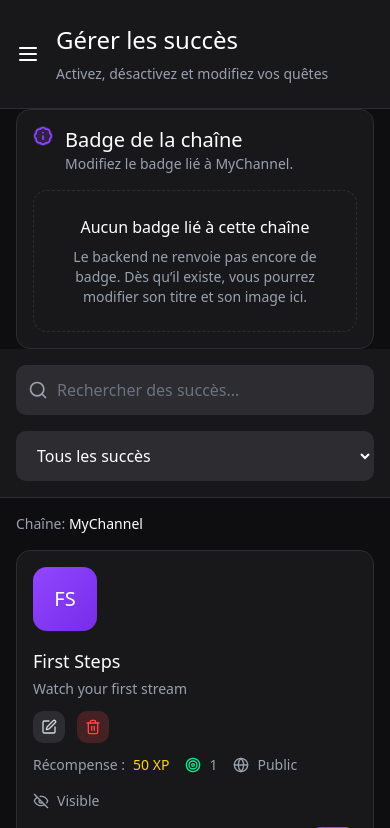
Test: SuccessManagement › should filter achievements by active status
Expected: the heading "First Steps" is shown, [33,649,120,673]
Select "Inactifs uniquement" in the dropdown at (195, 456), box [16,431,374,481]
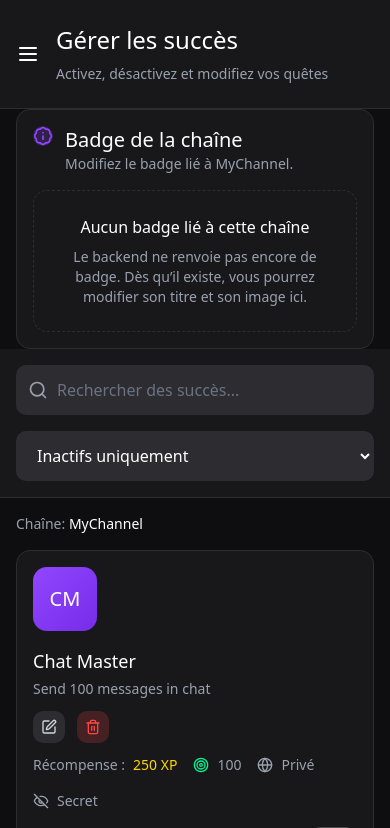
Expected: the heading "Chat Master" is shown, [33,649,136,673]
Expected: the heading "First Steps" is gone
